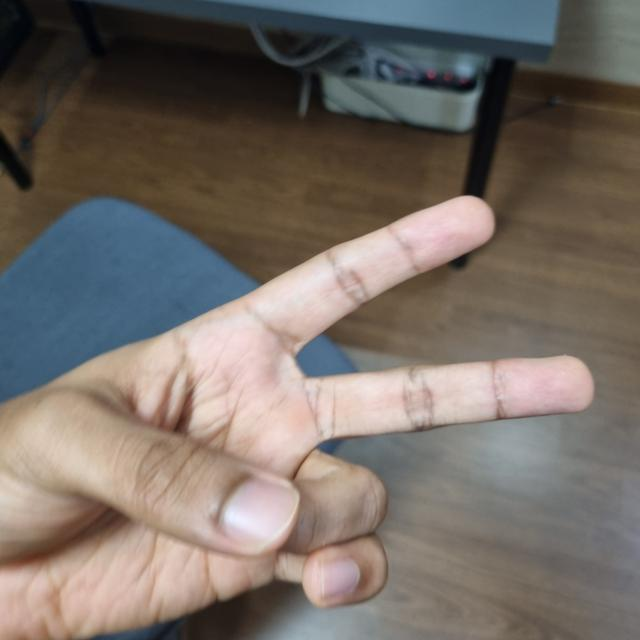Scissors: (0, 199, 579, 638)
